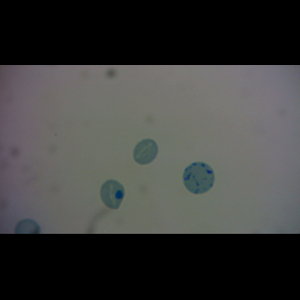aggregate reticulocyte: (183, 162, 215, 194)
erythrocyte: (100, 180, 126, 210), (133, 139, 158, 165)
